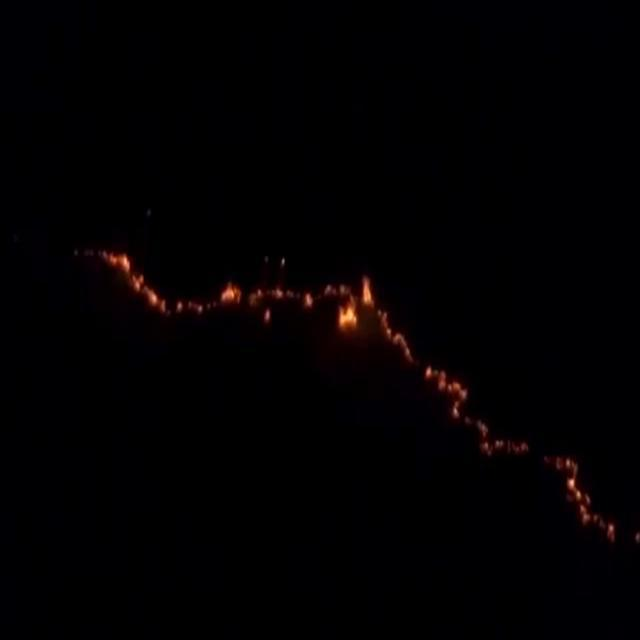Fire: (216, 265, 375, 338), (98, 240, 166, 320), (568, 472, 618, 538), (166, 294, 212, 314), (472, 411, 494, 452), (400, 337, 418, 368), (342, 302, 360, 330), (358, 272, 374, 302), (222, 286, 242, 310), (378, 310, 392, 342), (455, 378, 468, 398), (518, 432, 532, 444), (427, 362, 434, 379), (196, 296, 204, 310), (179, 298, 184, 315), (266, 310, 274, 320), (278, 284, 284, 296), (248, 290, 254, 298), (256, 284, 262, 292)
